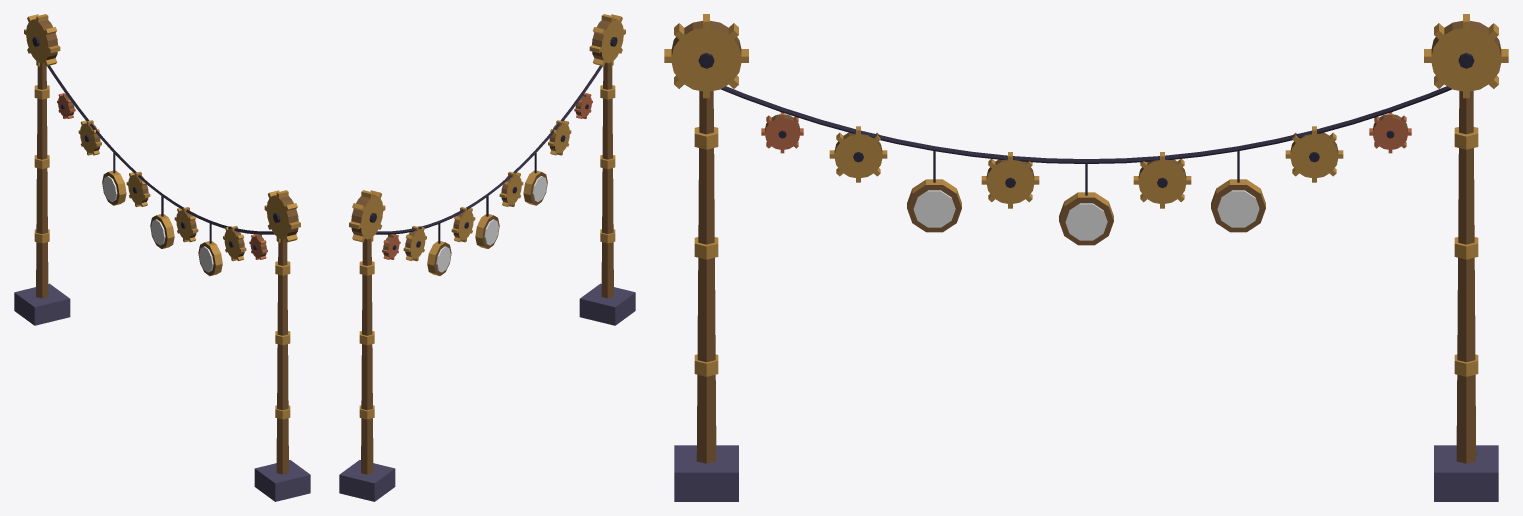
Rendered from Fair_CogLine.fbx.
3 views of the same model, side by side, from view 1: azimuth 30°, elevation 25°; view 2: azimuth 150°, elevation 25°; view 3: azimuth 270°, elevation 25° (orthographic). The views are drawn at different scales.
Visible parts, largest first — view 1: Fair_CogLine; view 2: Fair_CogLine; view 3: Fair_CogLine.
Part boxes in pixels (bbox=[...]): Fair_CogLine: bbox=[14, 14, 310, 501]; Fair_CogLine: bbox=[339, 14, 635, 501]; Fair_CogLine: bbox=[664, 14, 1508, 501].
Size of what is drawn, in the model's own units: 0.8 by 6.42 by 10.45.
2 materials, 1 textured.
